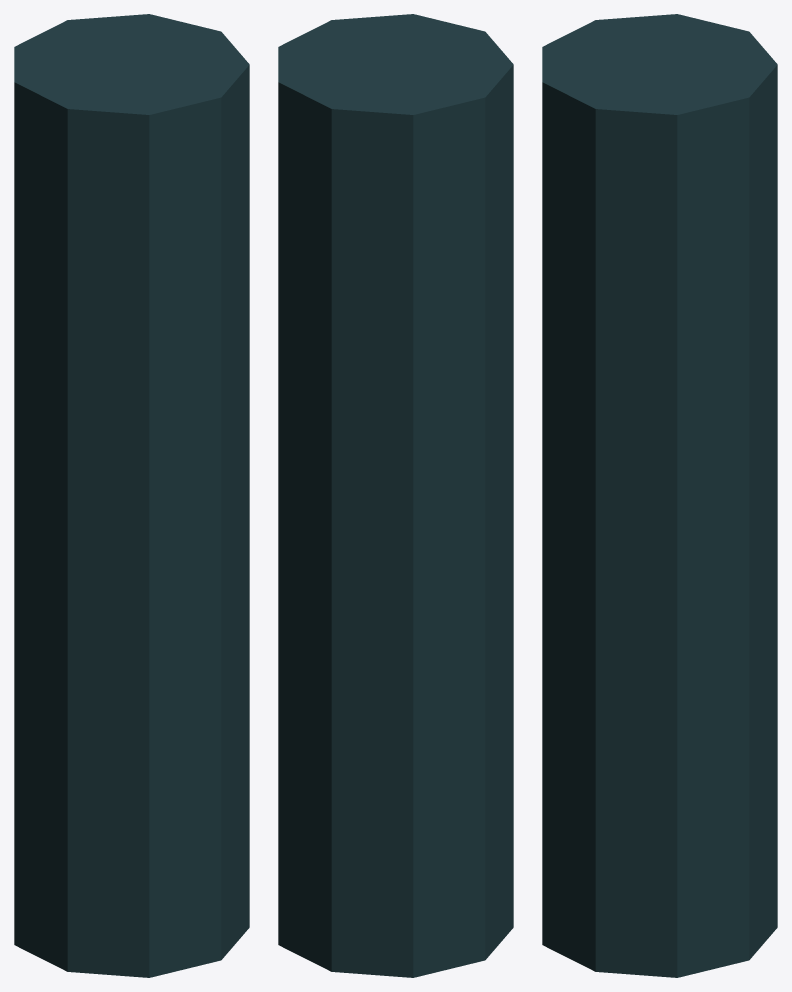
The model's file is PipeA_Hangar.fbx.
The picture shows the model from 3 angles, left to right: view 1: azimuth 30°, elevation 25°; view 2: azimuth 150°, elevation 25°; view 3: azimuth 270°, elevation 25°; orthographic projection.
Parts seen in each view (by area): view 1: Pipe A; view 2: Pipe A; view 3: Pipe A.
Boxes of the visible parts, <box> form: Pipe A: <box>14,14,249,977</box>; Pipe A: <box>278,14,513,977</box>; Pipe A: <box>542,14,777,977</box>.
Size of the model in its own units: 109 by 434 by 107.
